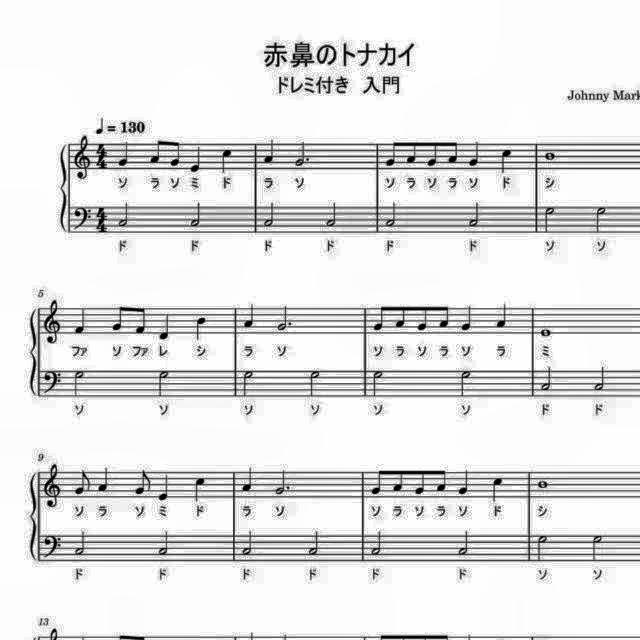Bass-clef: (40, 366, 64, 396), (40, 531, 64, 561), (71, 203, 95, 233)
Eighth-note: (132, 467, 154, 498), (70, 467, 92, 498), (368, 466, 386, 499), (384, 138, 401, 170), (369, 300, 386, 332), (146, 136, 164, 166), (412, 466, 428, 498), (168, 136, 184, 168), (424, 138, 440, 170), (112, 300, 128, 332), (134, 304, 150, 336), (389, 466, 406, 496), (392, 301, 408, 331), (433, 466, 449, 496), (446, 138, 462, 166), (416, 302, 430, 334), (404, 138, 420, 166), (436, 300, 450, 330)
Full-note: (542, 148, 558, 164), (536, 324, 552, 340), (534, 478, 550, 492)
Half-dot: (291, 138, 313, 170), (275, 300, 297, 332), (274, 468, 294, 500)
Half-note: (534, 532, 554, 566), (153, 528, 173, 560), (188, 199, 208, 231), (590, 364, 610, 394), (70, 366, 88, 399), (71, 526, 89, 558), (456, 367, 474, 399), (153, 366, 171, 398), (592, 202, 610, 234), (586, 533, 604, 565), (539, 204, 557, 236), (369, 367, 386, 399), (455, 529, 473, 559), (239, 528, 257, 558), (539, 363, 557, 393), (263, 199, 281, 229), (369, 529, 387, 559), (465, 199, 483, 229), (325, 200, 343, 230), (240, 367, 256, 399), (116, 198, 132, 230), (306, 366, 322, 398), (383, 200, 401, 228), (304, 529, 320, 559)
Quarter-note: (71, 306, 89, 338), (186, 142, 204, 174), (95, 466, 113, 496), (489, 474, 507, 504), (261, 135, 279, 165), (455, 468, 473, 498), (158, 472, 175, 503), (190, 473, 208, 502), (242, 300, 258, 332), (458, 302, 474, 334), (158, 310, 174, 342), (496, 148, 514, 176), (218, 147, 235, 176), (115, 139, 131, 169), (494, 301, 510, 331), (466, 138, 482, 168), (240, 466, 256, 494), (194, 315, 210, 343)
Treble-clef: (42, 299, 66, 349), (71, 131, 93, 181), (44, 462, 66, 511)
